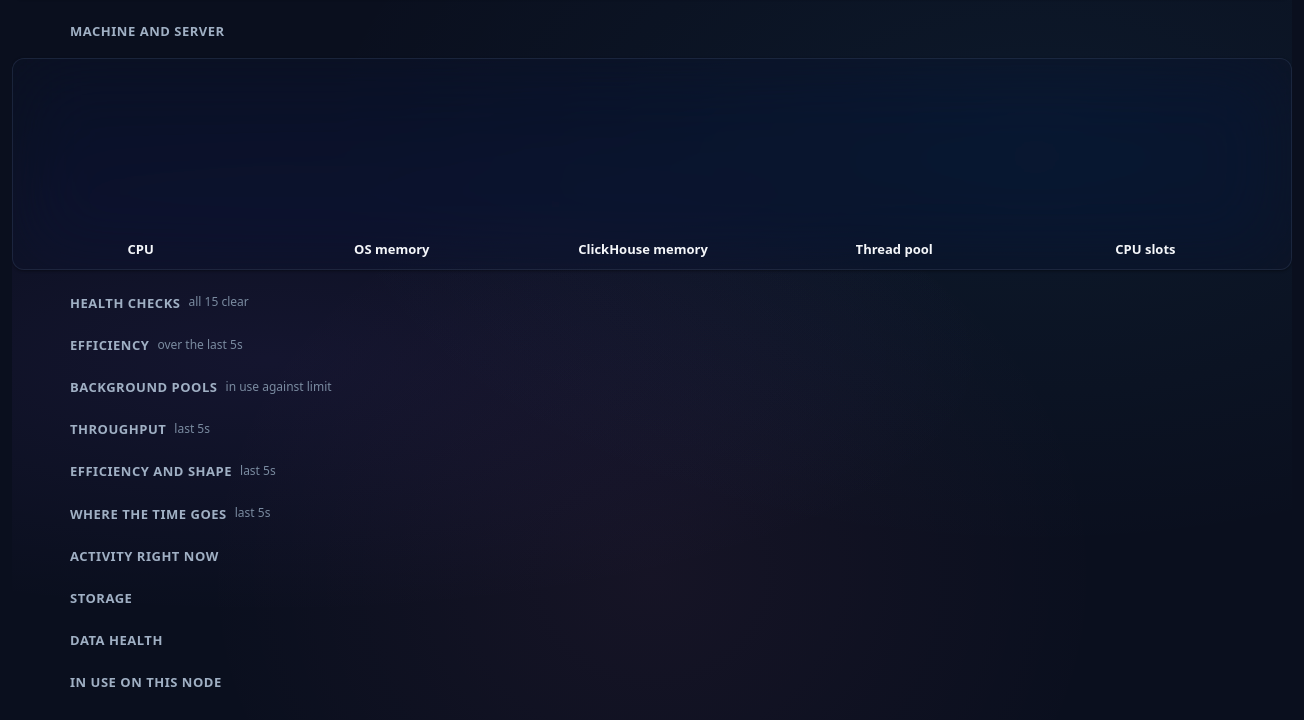
LiveOverview: conditional sections › shows a subsystem as soon as it reports activity
(page scrolled)
Expected: the text "In use on this node" is shown, [70,673,222,692]
Click the button "In use on this node" at (146, 682), box [12,665,1292,700]
(page scrolled)
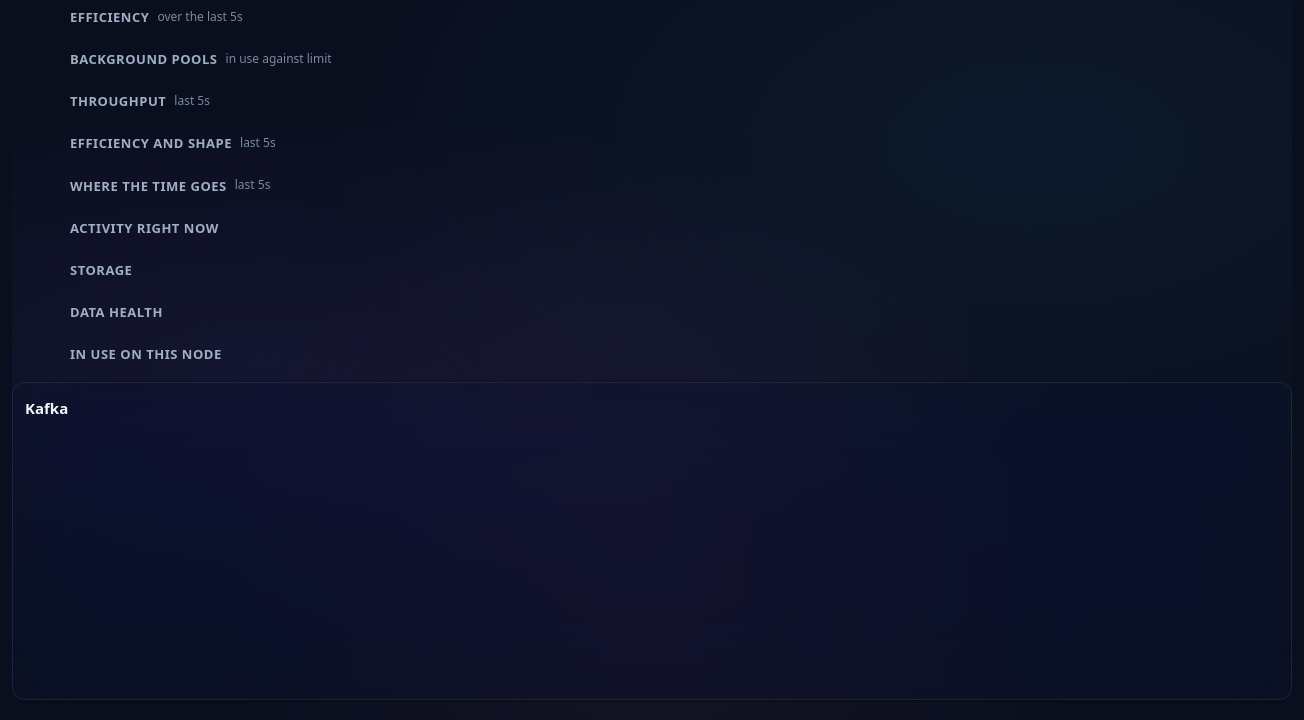
Now the heading "Kafka" is shown, box [25,396,68,421]
